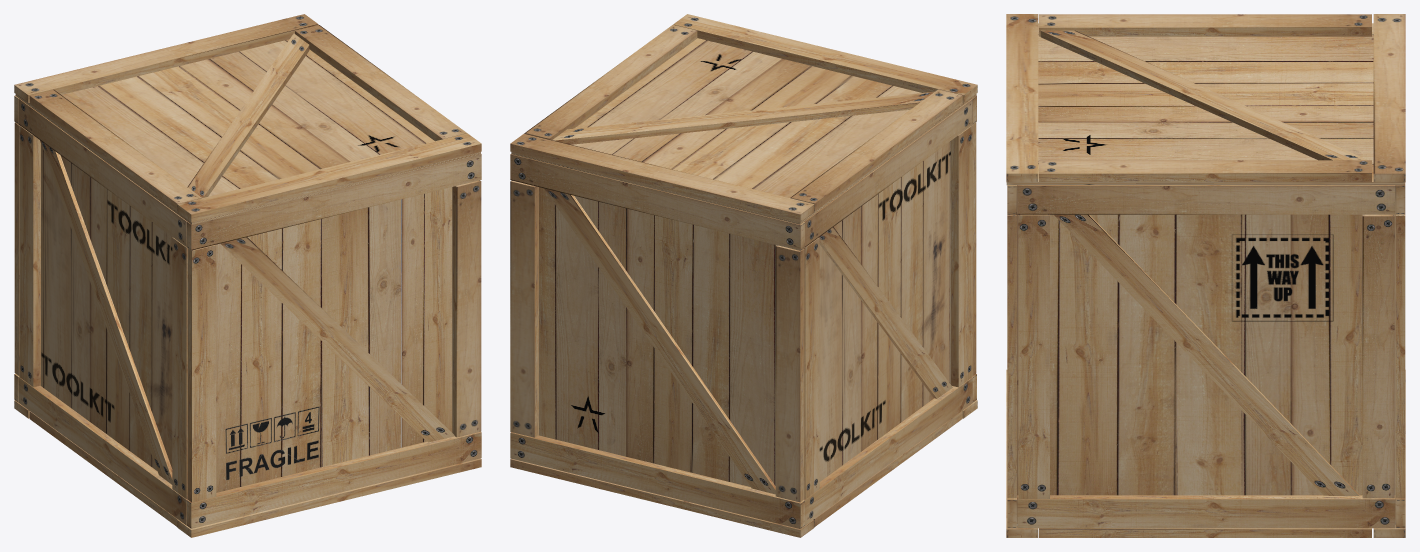
The model's file is toolkit.obj.
3 renders of one model, left to right at view 1: azimuth 30°, elevation 25°; view 2: azimuth 150°, elevation 25°; view 3: azimuth 270°, elevation 25°, orthographic. The views are drawn at different scales.
Parts seen in each view (by area): view 1: 1.002; view 2: 1.002; view 3: 1.002.
Part boxes in pixels (x1,y1,x2,y2): 1.002: (14, 14, 481, 537); 1.002: (510, 14, 977, 537); 1.002: (1006, 14, 1405, 537).
Bounding box in the file's own units: 13.01 × 13.83 × 13.73.
